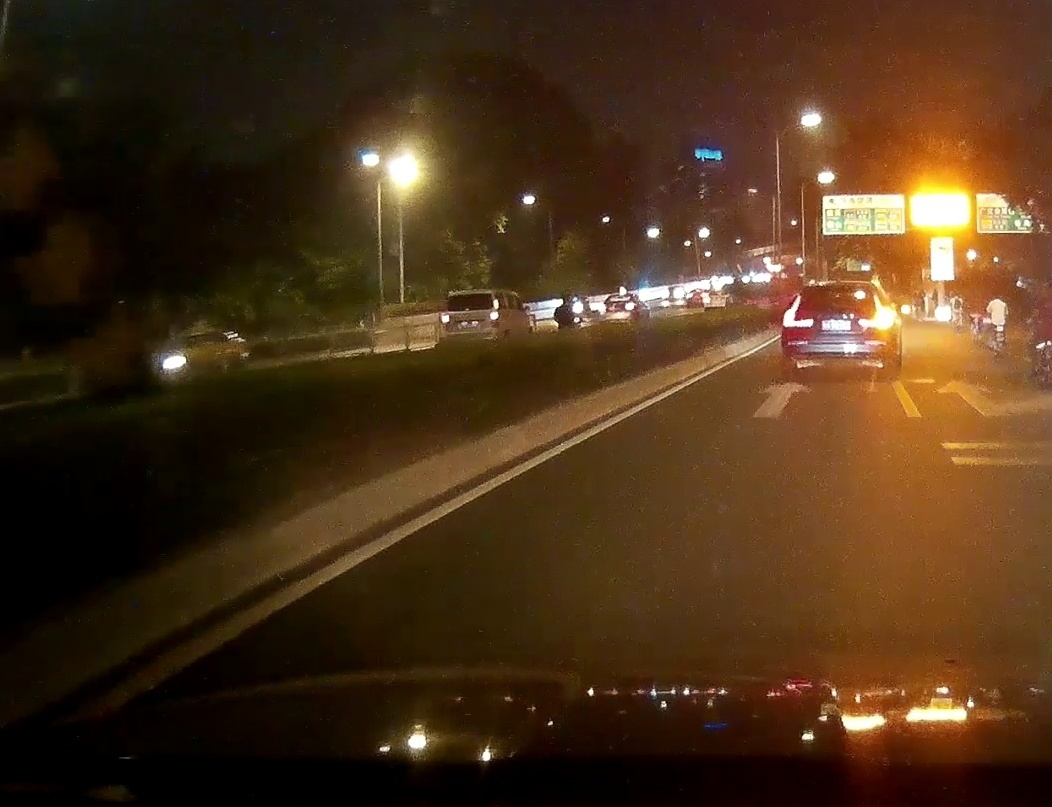L_light: (782, 294, 813, 328), (443, 315, 450, 328)
R_light: (858, 295, 891, 329), (490, 313, 498, 327)
T_light: (829, 285, 849, 291), (464, 293, 475, 297)
night-no: (443, 290, 499, 349)
night-right: (780, 279, 895, 378)
